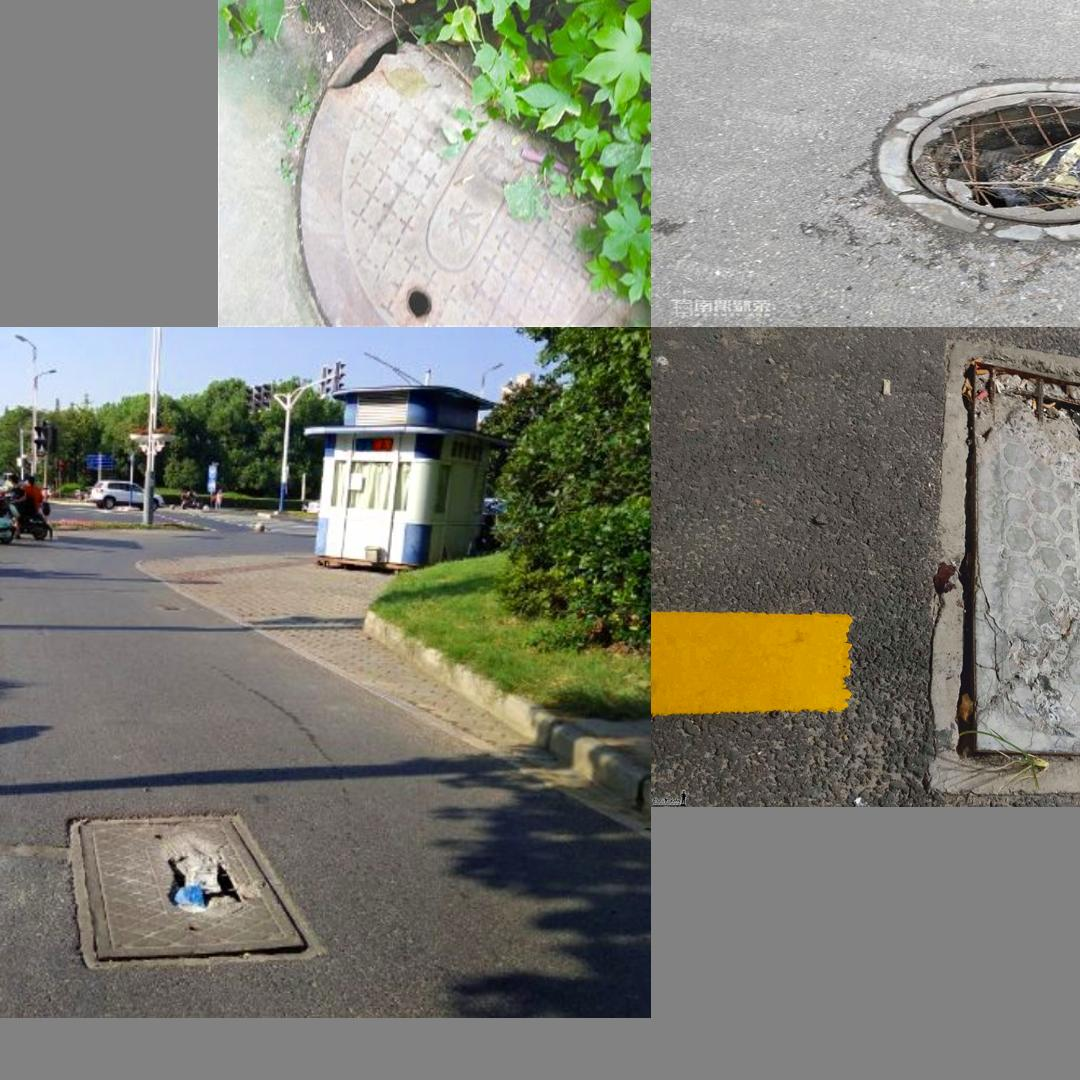broke: (267, 3, 647, 327), (926, 339, 1080, 793), (70, 812, 325, 970), (861, 69, 1080, 242)
